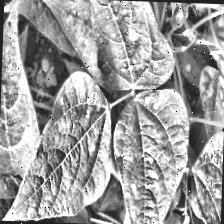Bean Rust: (6, 72, 111, 224), (108, 88, 189, 224), (77, 0, 175, 90), (0, 13, 40, 181)
